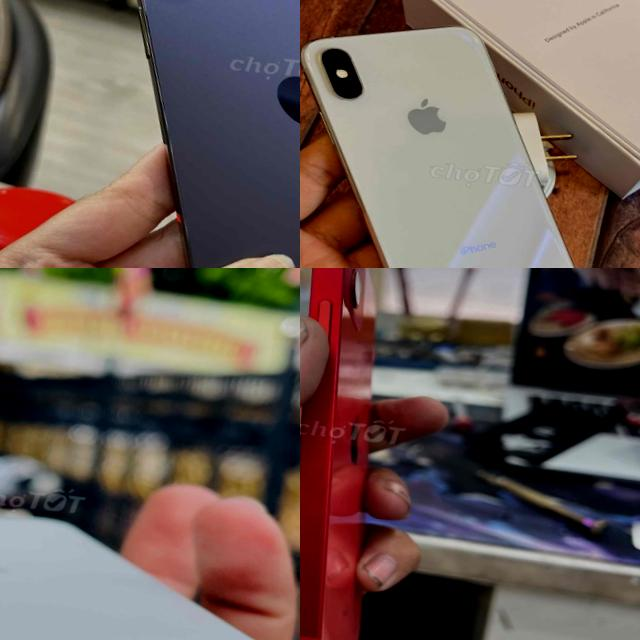gen_11: (0, 481, 300, 640)
gen_12_13: (300, 268, 426, 640)
gen_14: (65, 0, 300, 268)
gen_x_xs: (300, 27, 574, 268)
